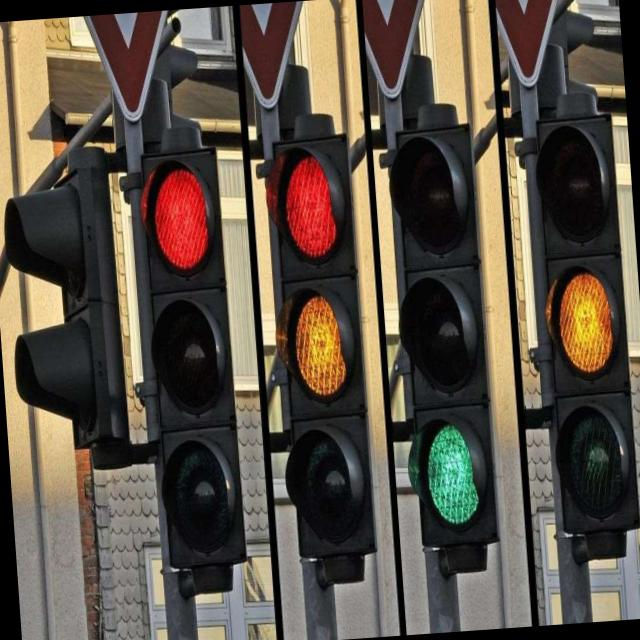green-lights: (422, 418, 483, 530)
red-lights: (150, 164, 213, 276), (281, 152, 341, 263)
yellow-lights: (554, 266, 619, 378), (290, 289, 350, 400)
